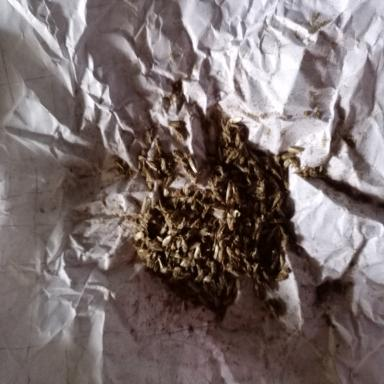pbw: (136, 208, 154, 233), (172, 149, 189, 172), (140, 164, 154, 191), (184, 219, 201, 240), (251, 265, 261, 299), (235, 132, 245, 166), (291, 166, 318, 178), (194, 164, 210, 184), (251, 215, 263, 241), (231, 180, 242, 205), (274, 266, 291, 282), (271, 193, 284, 212), (271, 166, 287, 180), (211, 189, 225, 205), (197, 294, 212, 308), (225, 263, 240, 277), (189, 191, 199, 211), (147, 241, 163, 253), (225, 246, 238, 260), (172, 127, 185, 141), (166, 120, 186, 129), (268, 228, 278, 246), (279, 224, 289, 242), (188, 156, 198, 174), (187, 282, 201, 294), (216, 146, 224, 165), (155, 137, 163, 156), (271, 254, 280, 270), (144, 159, 157, 170), (251, 202, 261, 216), (164, 174, 174, 187), (269, 177, 279, 190), (282, 151, 296, 160), (226, 180, 231, 204), (222, 298, 234, 308), (169, 208, 179, 220), (213, 243, 220, 259), (196, 269, 204, 283), (194, 243, 201, 259), (162, 235, 172, 246), (227, 279, 233, 296), (219, 240, 223, 263)
